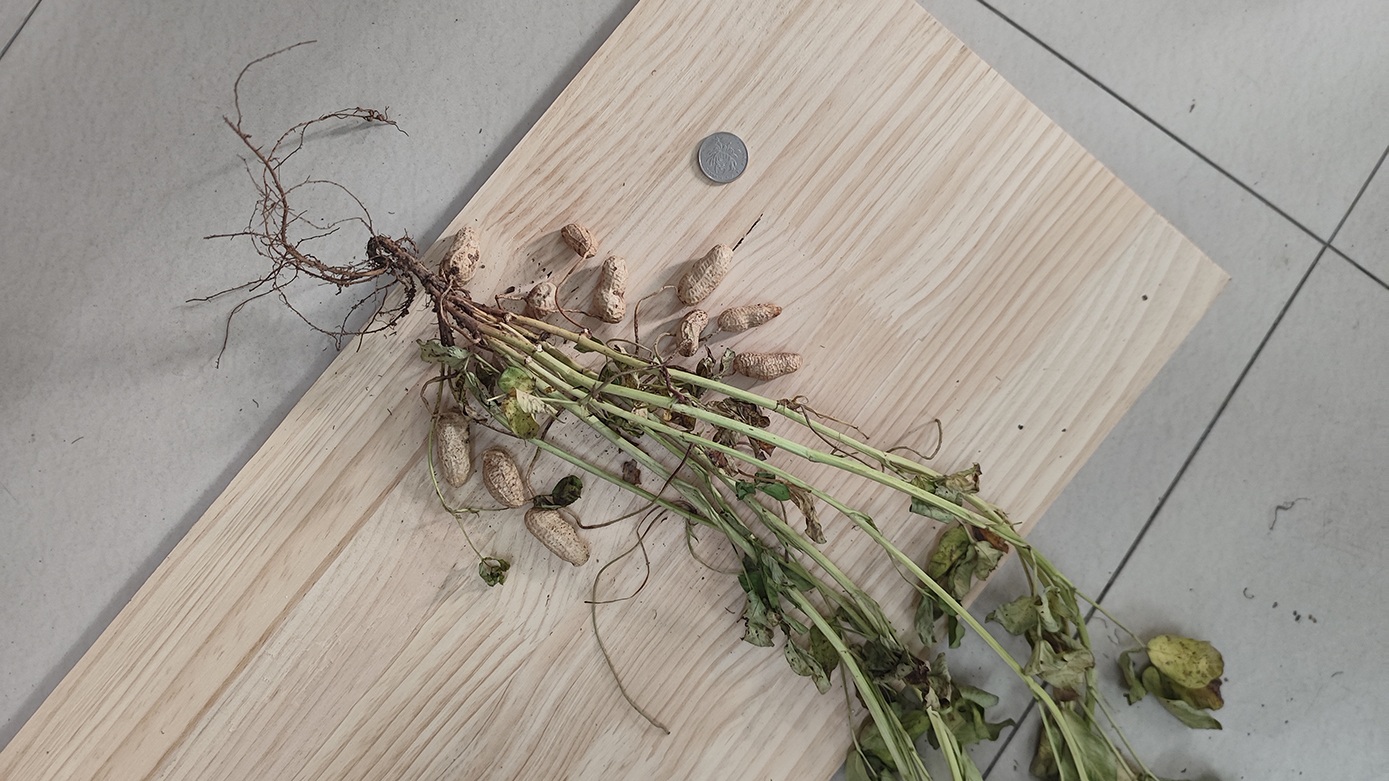h: (525, 506, 589, 566), (678, 245, 734, 304), (437, 411, 473, 487), (481, 451, 524, 508), (440, 227, 482, 284), (718, 301, 783, 335), (595, 257, 627, 323), (735, 351, 805, 379), (675, 309, 709, 358), (561, 224, 597, 258), (529, 282, 558, 319)
